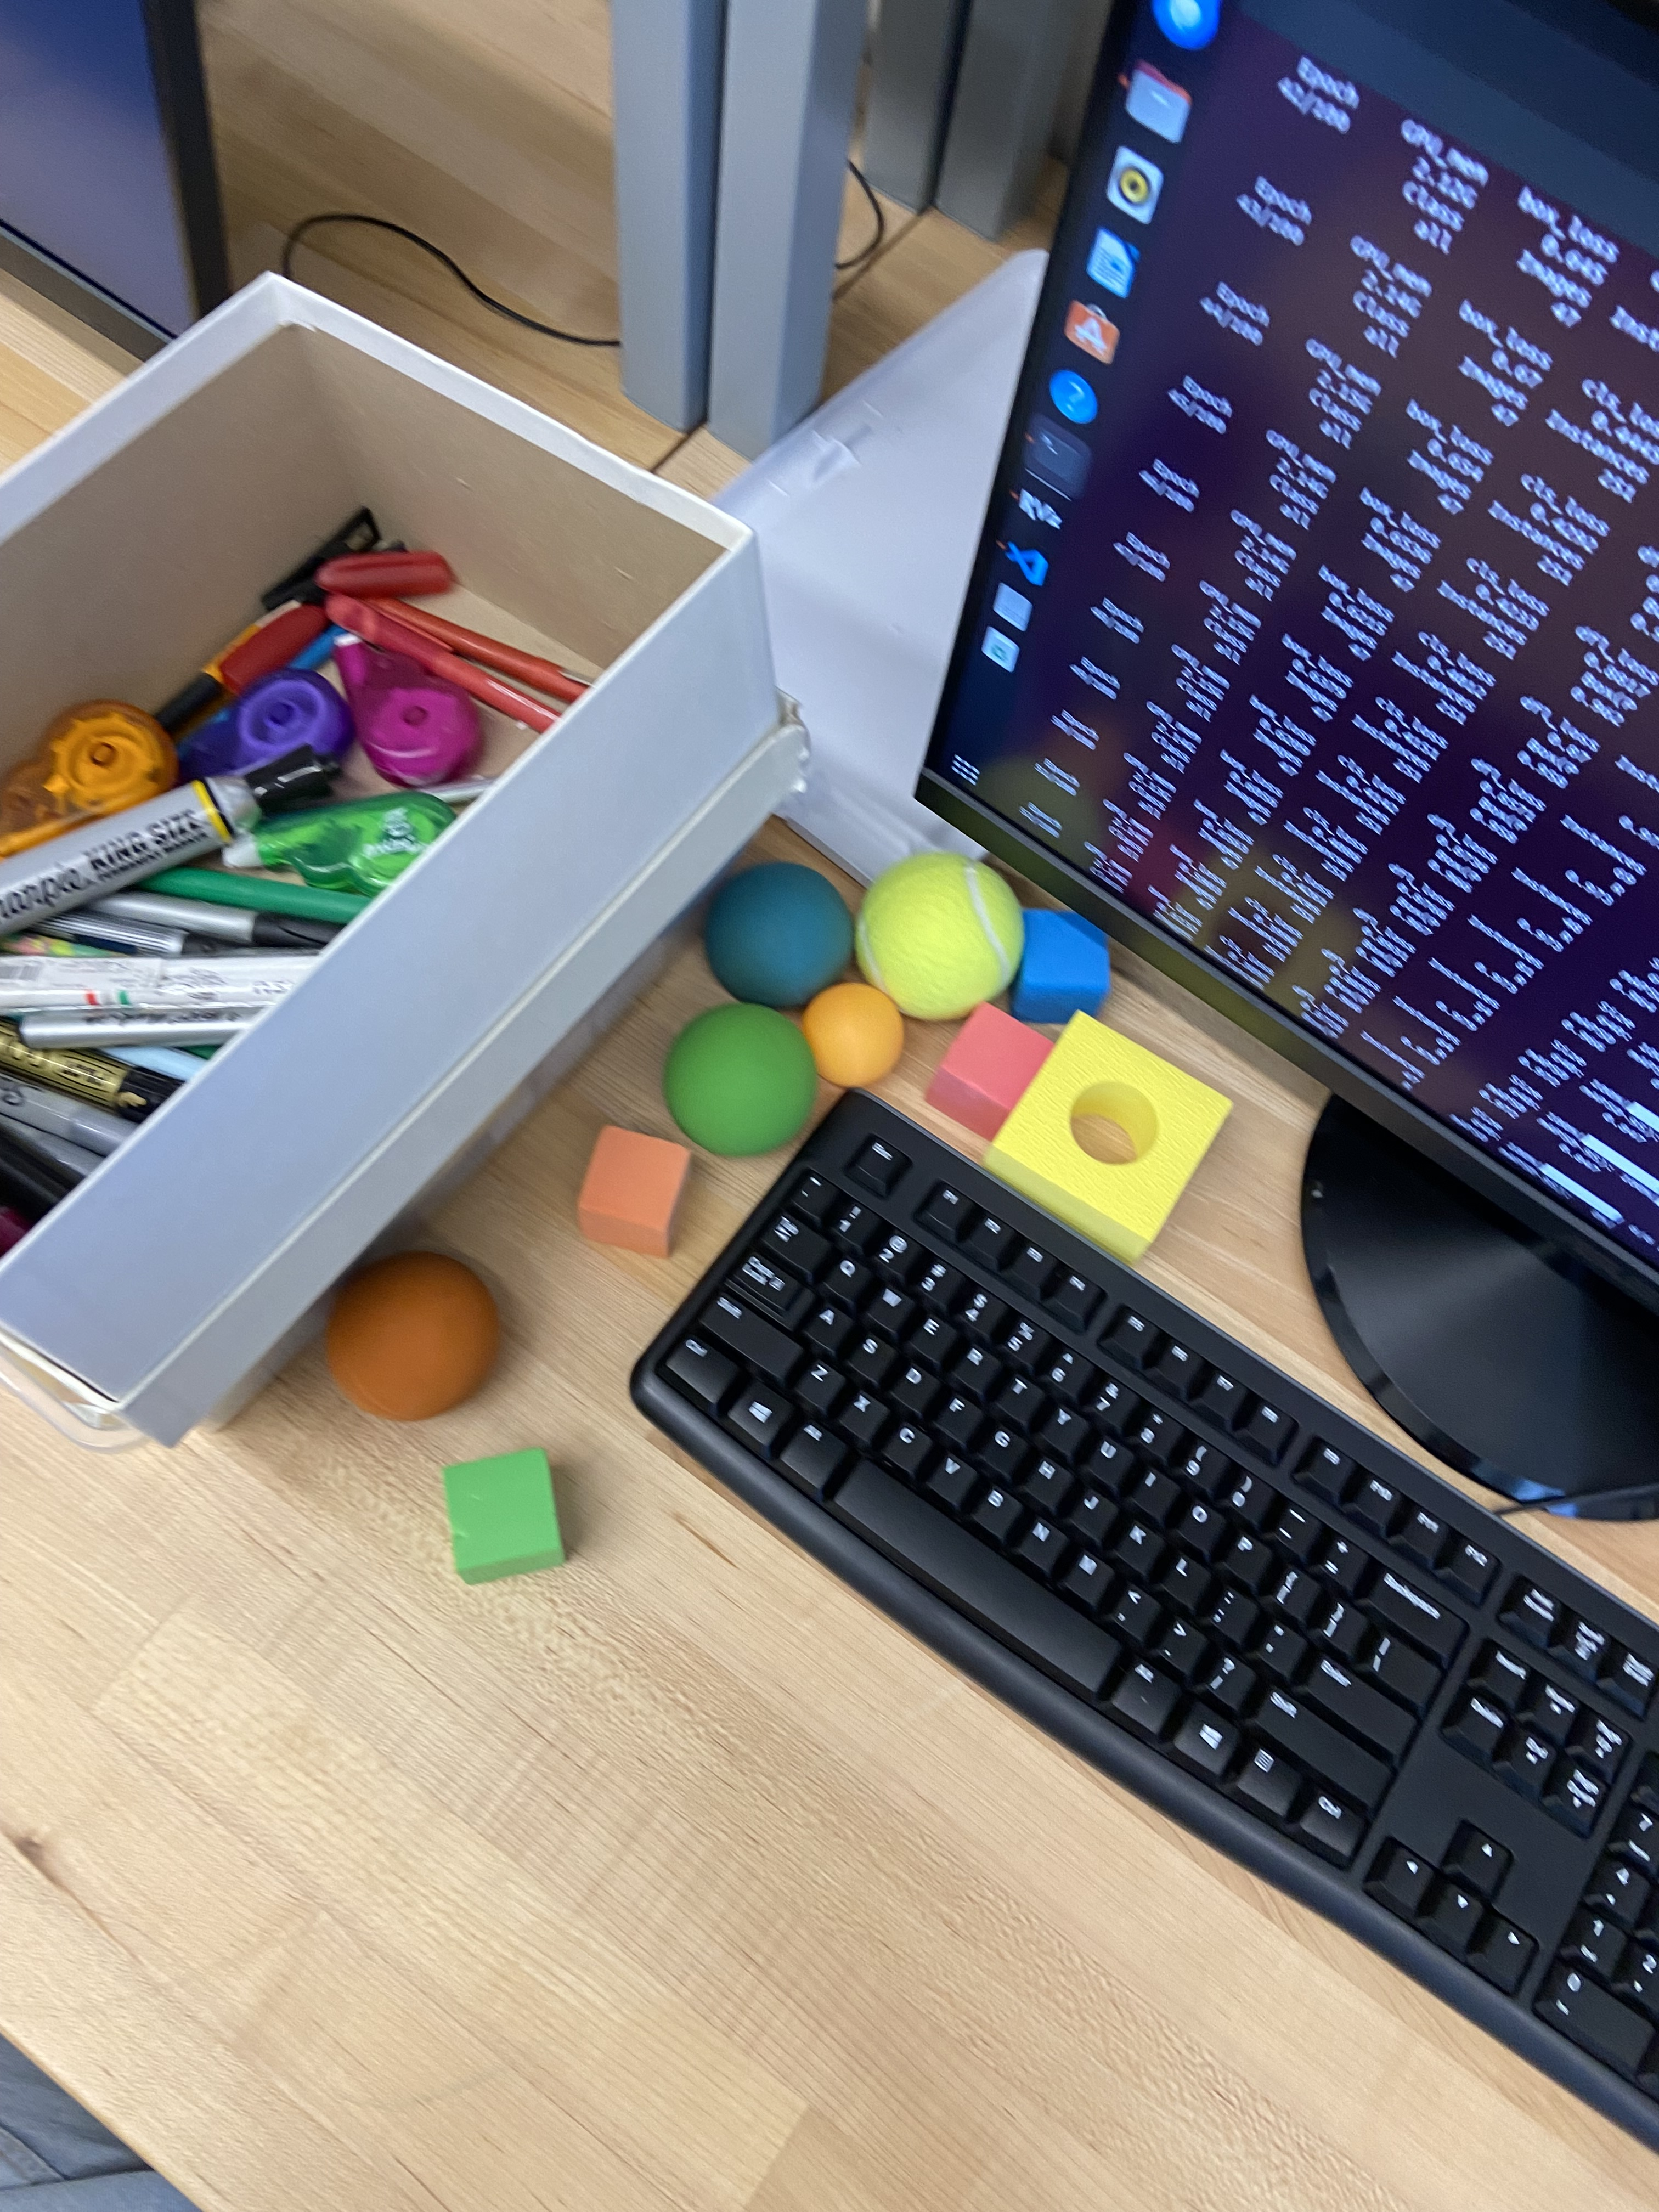Cube: (329, 1252, 497, 1423), (697, 859, 854, 1012), (863, 859, 1011, 1012), (673, 1005, 805, 1158), (805, 984, 901, 1089)
ball: (931, 1003, 1053, 1137), (444, 1451, 563, 1583), (580, 1123, 690, 1261), (1011, 911, 1114, 1019)
